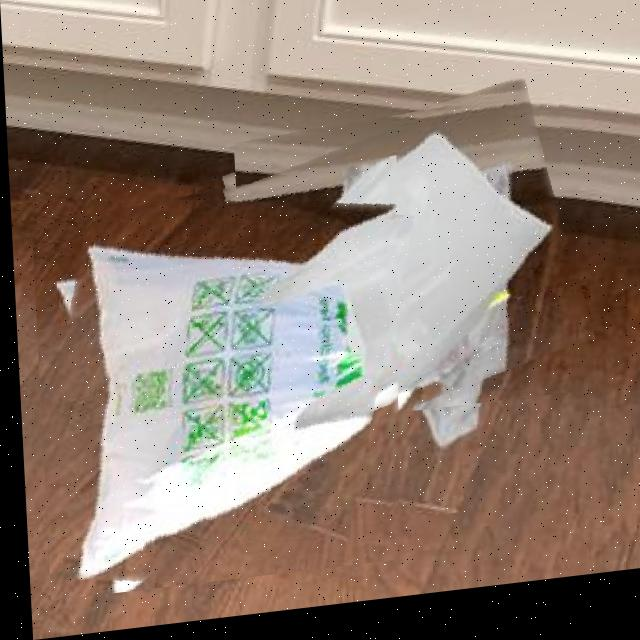litter: (28, 165, 411, 602), (231, 100, 580, 436)
